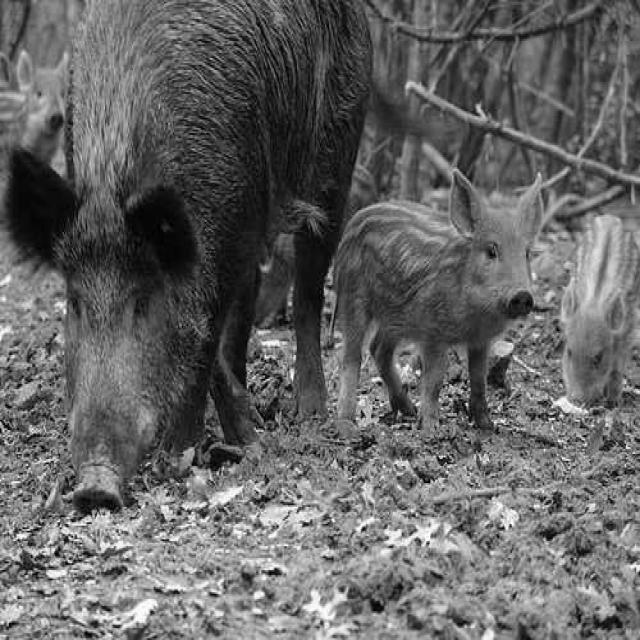boar: (8, 0, 370, 503), (335, 169, 544, 433), (563, 215, 640, 405), (0, 49, 63, 173), (346, 164, 379, 228)
